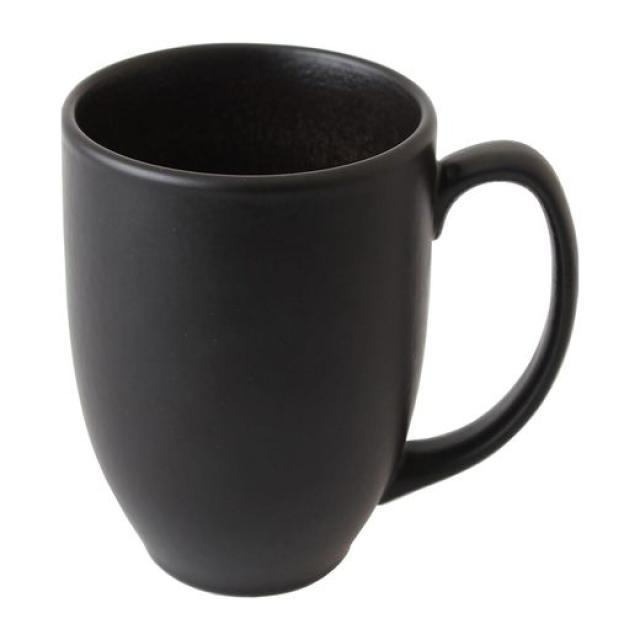Coffee Mug: (55, 39, 581, 600)
